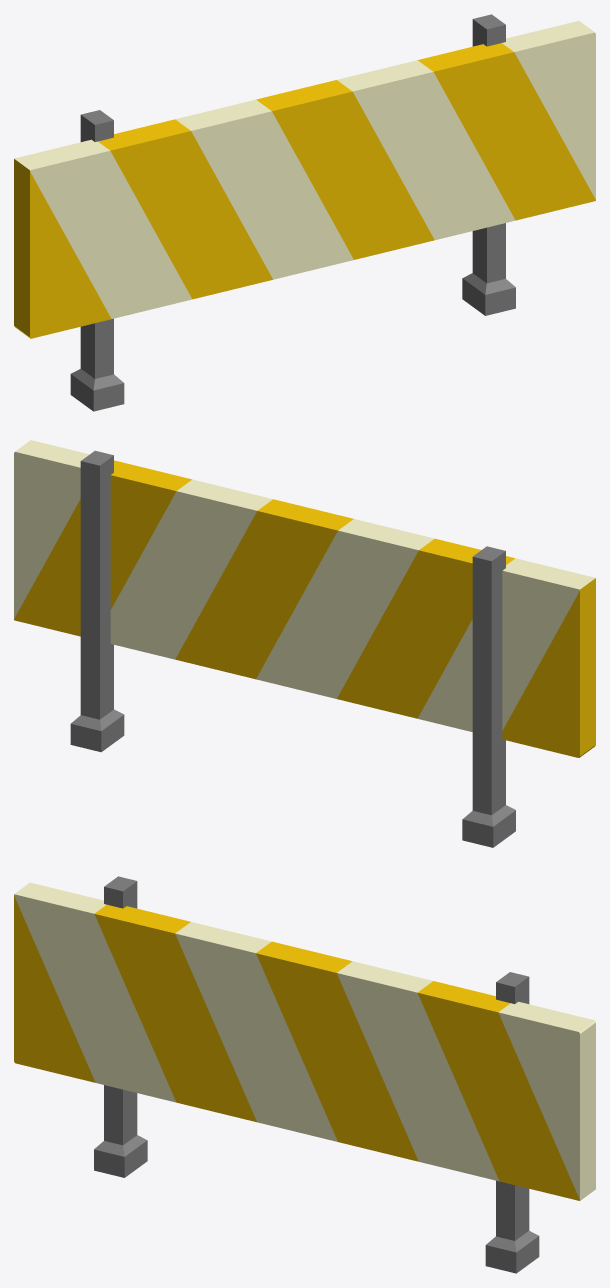
The model's file is TrafficFence.fbx.
3 renders of one model, top to bottom at view 1: azimuth 30°, elevation 25°; view 2: azimuth 150°, elevation 25°; view 3: azimuth 330°, elevation 25°, orthographic.
Parts seen in each view (by area): view 1: Cube; view 2: Cube; view 3: Cube.
Boxes of the visible parts, x1,y1,x2,y2 form: Cube: (14, 14, 595, 411); Cube: (14, 440, 595, 847); Cube: (14, 876, 595, 1273).
Size of the model in its own units: 702 by 334 by 66.68.
